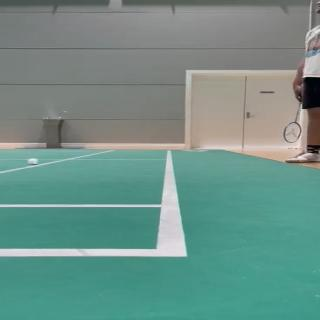Shuttle: (27, 158, 39, 165)
